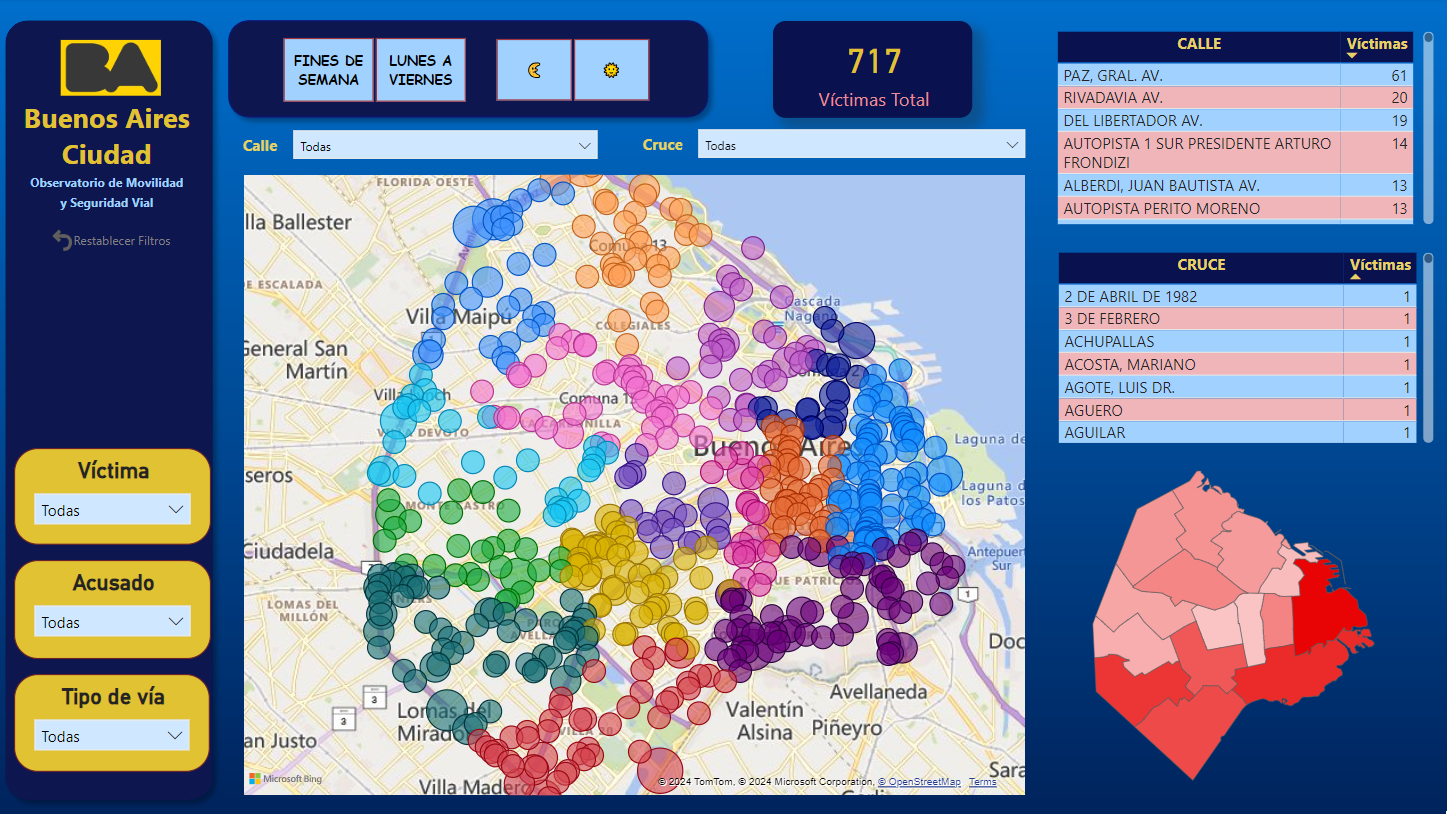

What the dashboard file says about the page in this screenshot:
{"tool":"powerbi","page":{"name":"victimas","canvas":[1280,720],"ordinal":2},"visuals":[{"type":"shape","box":[0,10.8,200.3,702.6],"z":0},{"type":"slicer","title":"Sexo de la víctima","fields":{"Values":["df_victimas.SEXO"]},"box":[10.9,236.4,160,120.9],"z":1000},{"type":"columnChart","title":"Víctimas por rango etáreo","fields":{"Y":["CountNonNull(df_victimas.ID_VICTIMA)"],"Category":["df_victimas.RANGO_ETAREO"]},"box":[210.2,112.6,365,277.2],"z":2000},{"type":"donutChart","fields":{"Category":["df_victimas.SEXO"],"Y":["CountNonNull(df_victimas.ID_VICTIMA)"]},"box":[210.3,397.2,252,307.1],"z":3000},{"type":"pieChart","fields":{"Category":["df_victimas.ROL"],"Y":["CountNonNull(df_victimas.ID_VICTIMA)"]},"box":[583.4,112.6,337.7,277.2],"z":4000},{"type":"textbox","box":[15.4,48.5,164.6,145.4],"z":5000},{"type":"image","box":[52.3,15.4,98.5,90],"z":6000},{"type":"clusteredBarChart","title":"Vehículo que utilizaba la víctima contra vehículos acusados","fields":{"Category":["df_victimas.VICTIMA"],"Y":["CountNonNull(df_victimas.ID_VICTIMA)"],"Series":["df_victimas.ACUSADO"]},"box":[928.9,112.6,326.9,371.1],"z":7000},{"type":"slicer","title":"Víctima","fields":{"Values":["df_victimas.VICTIMA"]},"box":[15.4,397.5,172.3,85.7],"z":8000},{"type":"slicer","title":"Acusado","fields":{"Values":["df_victimas.ACUSADO"]},"box":[15.4,495.6,172.3,86.6],"z":9000},{"type":"slicer","title":"Tipo de vía","fields":{"Values":["df_victimas.TIPO_DE_CALLE"]},"box":[15.4,594.8,172.3,84.7],"z":10000},{"type":"shape","box":[196.2,10.5,439.5,103.3],"z":11000},{"type":"slicer","title":"Días de semana","fields":{"Values":["df_victimas.TipoDeDía"]},"box":[227.1,27.9,209.8,70.3],"z":12000},{"type":"slicer","fields":{"Values":["df_victimas.dia_noche"]},"box":[414.8,28.9,183.8,68.3],"z":13000},{"type":"actionButton","box":[1218.7,691.9,37.8,28.1],"z":14000},{"type":"actionButton","box":[1244.5,692.7,35.5,27.3],"z":15000},{"type":"image","box":[149.2,261.8,37.5,89.5],"z":16000},{"type":"map","fields":{"Series":["df_victimas.COMUNA"],"Y":["df_victimas.LATITUD"],"X":["df_victimas.LONGITUD"]},"box":[471.7,397.2,450.2,309.5],"z":17000},{"type":"tableEx","fields":{"Values":["df_victimas.CALLE","df_victimas.ID_VICTIMA"]},"box":[930.5,483.5,340.1,215.5],"z":18000},{"type":"card","fields":{"Values":["Medidas.Total Moto Victims"]},"box":[880.1,21.2,164.7,82.8],"z":19000},{"type":"card","fields":{"Values":["Medidas.Total Victimas Auto"]},"box":[1090.3,21.2,164.7,80.9],"z":20000},{"type":"card","fields":{"Values":["Medidas.Total Victimas Peatón"]},"box":[669.9,21.2,164.7,83.8],"z":21000}]}

Visuals, with their boxes in screenshot pixels (x1, y1, x2, y2), scaled from the page's 1280x720 canvas onto the 1447x814 screenshot:
shape: [0, 12, 226, 807]
"Sexo de la víctima" slicer: [12, 267, 193, 404]
"Víctimas por rango etáreo" columnChart: [238, 127, 650, 441]
donutChart - df_victimas.SEXO x CountNonNull(df_victimas.ID_VICTIMA): [238, 449, 523, 796]
pieChart - df_victimas.ROL x CountNonNull(df_victimas.ID_VICTIMA): [660, 127, 1041, 441]
textbox: [17, 55, 203, 219]
image: [59, 17, 170, 119]
"Vehículo que utilizaba la víctima contra vehículos acusados" clusteredBarChart: [1050, 127, 1420, 547]
"Víctima" slicer: [17, 449, 212, 546]
"Acusado" slicer: [17, 560, 212, 658]
"Tipo de vía" slicer: [17, 672, 212, 768]
shape: [222, 12, 719, 129]
"Días de semana" slicer: [257, 32, 494, 111]
slicer - df_victimas.dia_noche: [469, 33, 677, 110]
actionButton: [1378, 782, 1420, 813]
actionButton: [1407, 783, 1446, 813]
image: [169, 296, 211, 397]
map - df_victimas.COMUNA x df_victimas.LATITUD: [533, 449, 1042, 799]
tableEx - df_victimas.CALLE x df_victimas.ID_VICTIMA: [1052, 547, 1436, 790]
card - Medidas.Total Moto Victims: [995, 24, 1181, 118]
card - Medidas.Total Victimas Auto: [1233, 24, 1419, 115]
card - Medidas.Total Victimas Peatón: [757, 24, 943, 119]
